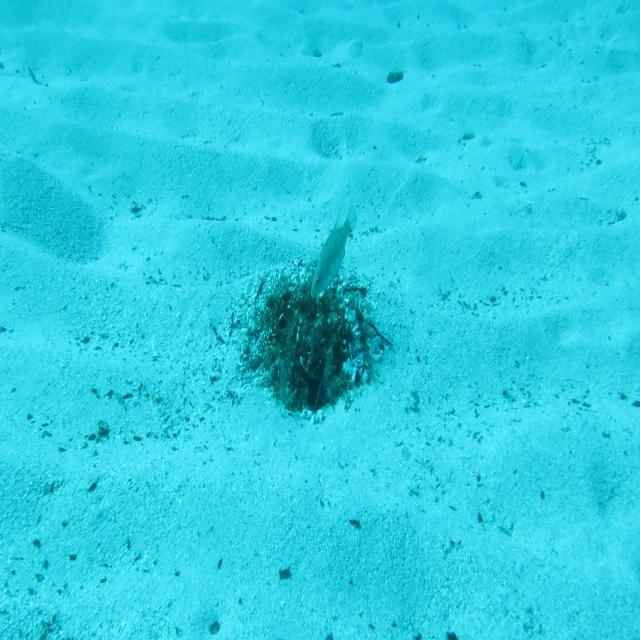AM: (309, 204, 361, 300)
core_nest: (288, 301, 332, 335)
nest: (231, 262, 380, 432)
vegetation: (310, 296, 316, 303)
